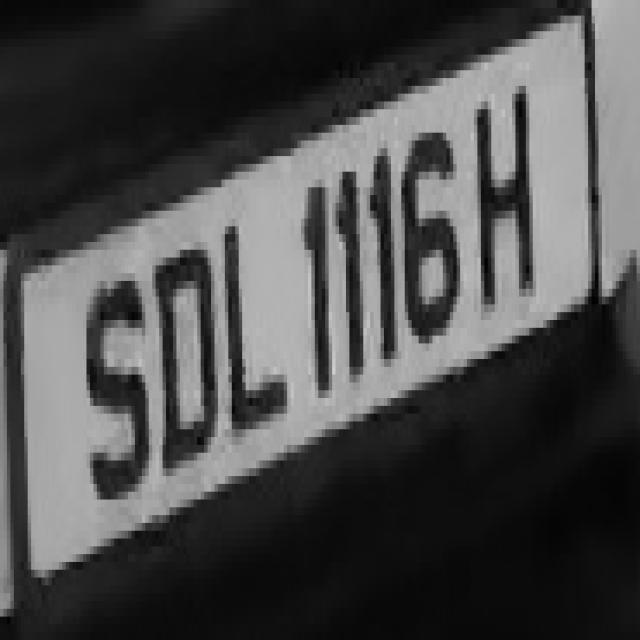1: (363, 132, 405, 414), (298, 180, 336, 422), (332, 172, 370, 414)
6: (394, 94, 460, 359)
D: (152, 218, 225, 484)
H: (467, 86, 540, 336)
L: (215, 195, 294, 468)
S: (80, 234, 148, 531)
